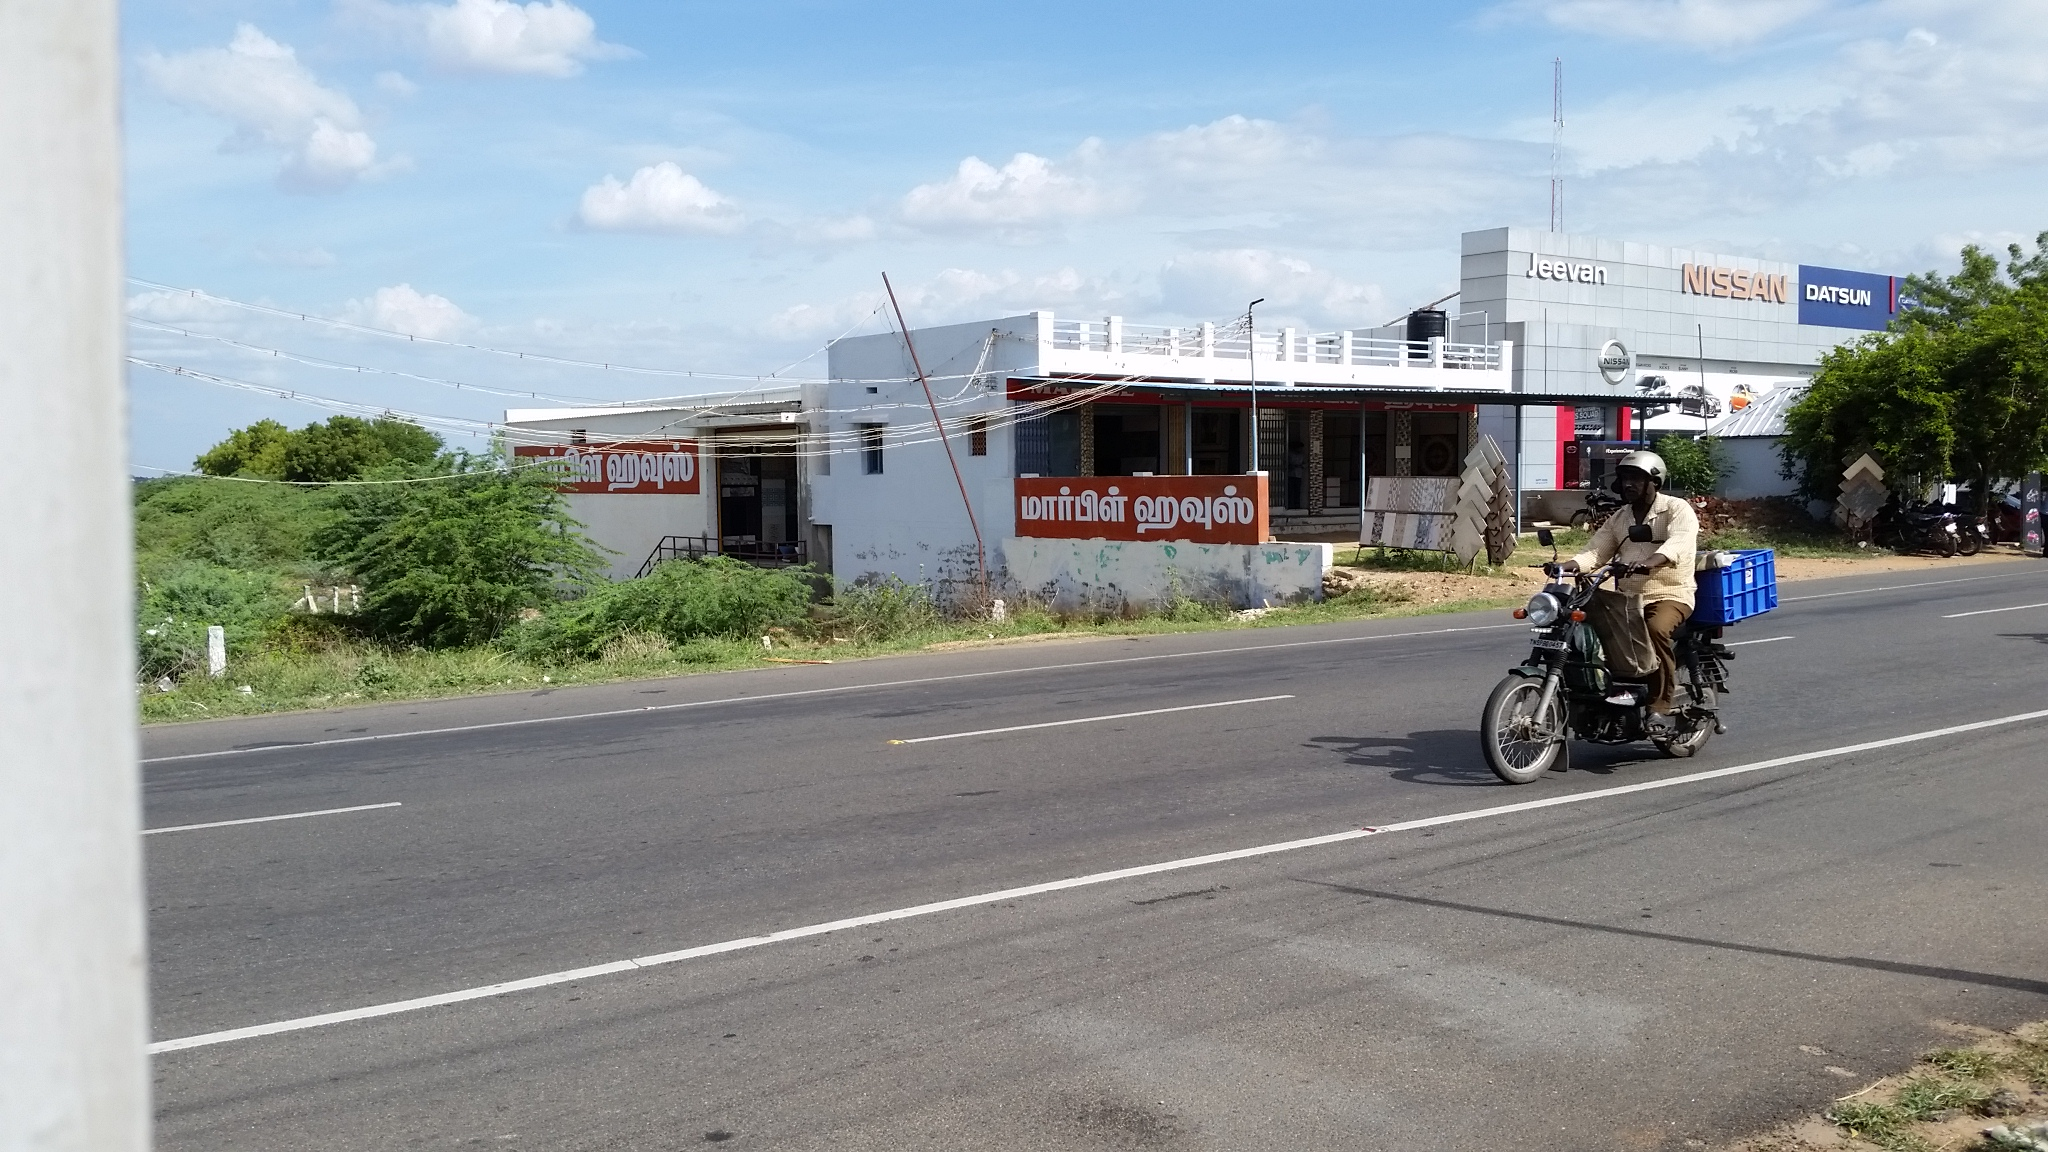biker: (1460, 413, 1792, 791)
helmet: (1612, 445, 1679, 512)
